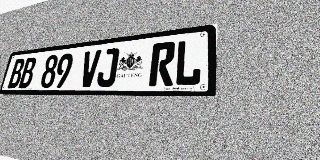8: (39, 54, 60, 88)
9: (53, 53, 74, 88)
B: (18, 57, 37, 88), (7, 58, 26, 88)
J: (96, 48, 120, 87)
L: (174, 38, 203, 86)
R: (149, 41, 176, 86)
V: (78, 50, 101, 87)
